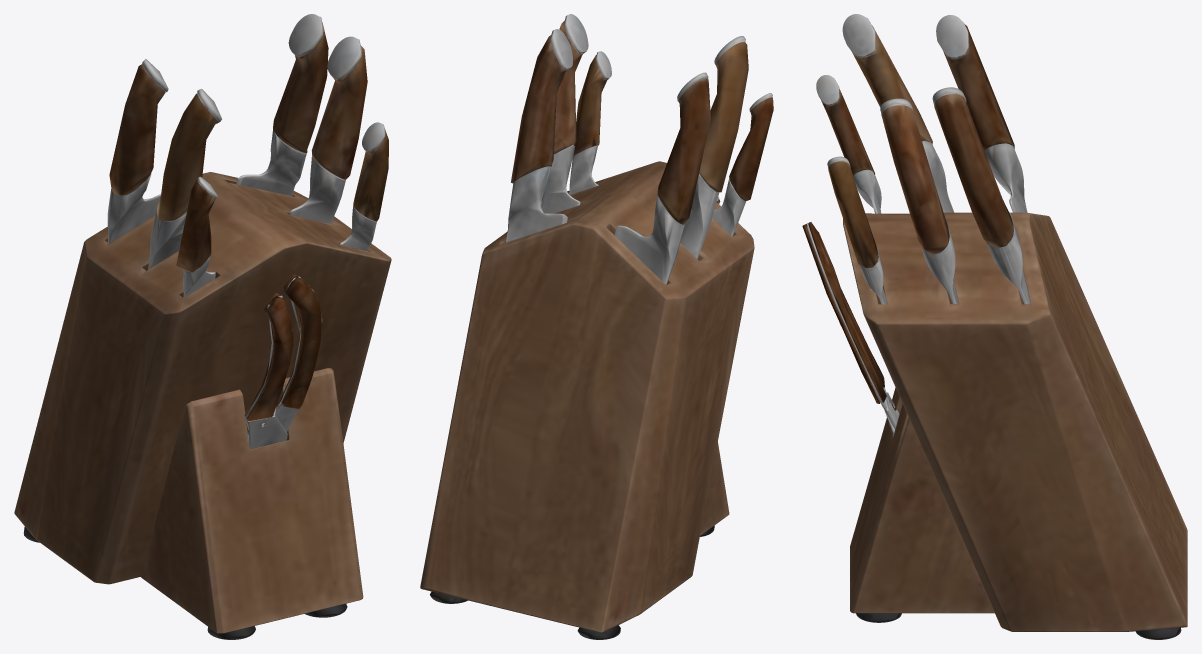
Rendered from utensil_knife_set_a01.glb.
The picture shows the model from 3 angles, left to right: view 1: azimuth 30°, elevation 25°; view 2: azimuth 150°, elevation 25°; view 3: azimuth 270°, elevation 25°; orthographic projection. The views are drawn at different scales.
Parts seen in each view (by area): view 1: sm_utensil_knife_set_a01_01; view 2: sm_utensil_knife_set_a01_01; view 3: sm_utensil_knife_set_a01_01.
Part boxes in pixels (bbox=[...]): sm_utensil_knife_set_a01_01: bbox=[14, 14, 391, 639]; sm_utensil_knife_set_a01_01: bbox=[420, 14, 773, 639]; sm_utensil_knife_set_a01_01: bbox=[802, 14, 1187, 639].
Bounding box in the file's own units: 0.1676 × 0.3937 × 0.255.
Materials: 16 (16 with a texture image).
